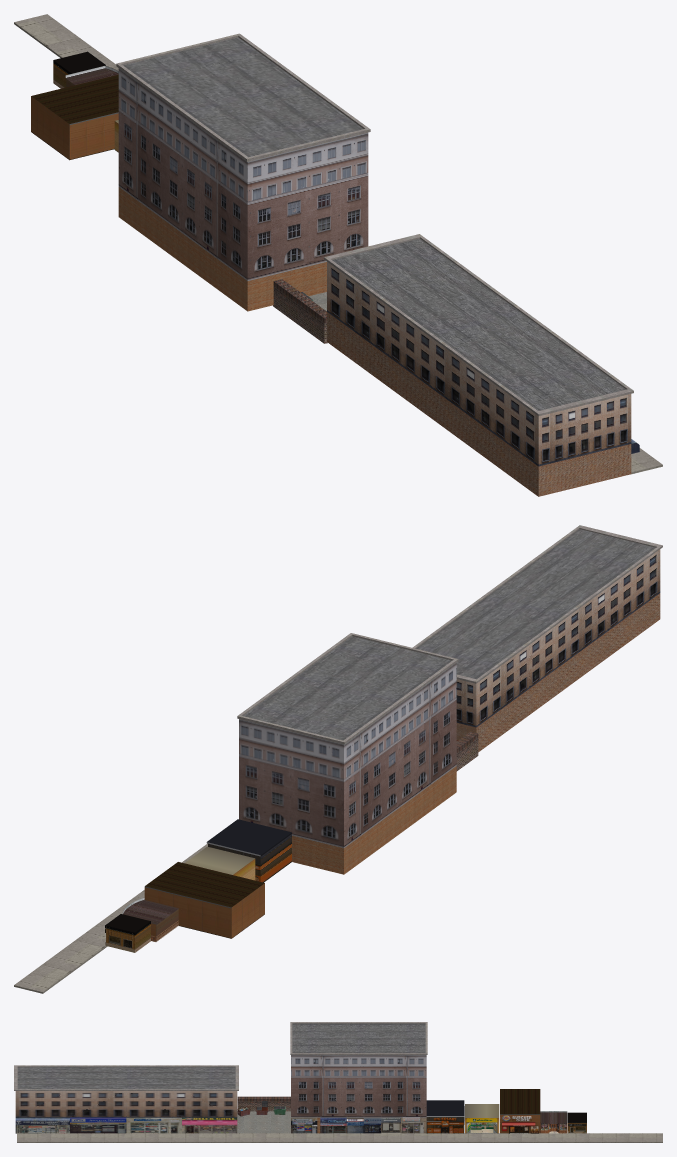
The model's file is Casas1.glb.
3 renders of one model, top to bottom at view 1: azimuth 30°, elevation 25°; view 2: azimuth 150°, elevation 25°; view 3: azimuth 270°, elevation 25°, orthographic. The views are drawn at different scales.
Visible parts, largest first — view 1: Building_02 (1), Building_06 (1), burguer, road_side_full (04), Plane.014, brickwall0 (2), brickwall0 (1); view 2: Building_02 (1), Building_06 (1), burguer, Pizzeria, road_side_full (04), Plane.014, farmacia, Plane.019; view 3: Building_06 (1), Building_02 (1), burguer, Pizzeria, Ground_1, road_side_full (5), road_side_full (3), road_side_full (1), road_side_full (04), road_side_full (2), road_side_full, farmacia (+4 smaller).
Boxes of the visible parts, x1=… form: Building_02 (1): x1=116, y1=33, x2=370, y2=311; Building_06 (1): x1=324, y1=234, x2=639, y2=496; burguer: x1=31, y1=74, x2=118, y2=160; road_side_full (04): x1=14, y1=14, x2=118, y2=70; Plane.014: x1=53, y1=51, x2=105, y2=88; brickwall0 (2): x1=298, y1=297, x2=327, y2=343; brickwall0 (1): x1=273, y1=279, x2=307, y2=324; Building_02 (1): x1=237, y1=633, x2=458, y2=874; Building_06 (1): x1=412, y1=525, x2=662, y2=752; burguer: x1=144, y1=862, x2=264, y2=938; Pizzeria: x1=206, y1=819, x2=291, y2=882; road_side_full (04): x1=14, y1=920, x2=109, y2=993; Plane.014: x1=105, y1=914, x2=150, y2=952; farmacia: x1=185, y1=846, x2=255, y2=880; Plane.019: x1=122, y1=897, x2=178, y2=941; Building_06 (1): x1=14, y1=1065, x2=238, y2=1133; Building_02 (1): x1=290, y1=1022, x2=427, y2=1133; burguer: x1=500, y1=1089, x2=540, y2=1133; Pizzeria: x1=426, y1=1100, x2=464, y2=1133; Ground_1: x1=237, y1=1111, x2=290, y2=1133; road_side_full (5): x1=340, y1=1132, x2=447, y2=1142; road_side_full (3): x1=124, y1=1133, x2=232, y2=1142; road_side_full (1): x1=447, y1=1133, x2=555, y2=1142; road_side_full (04): x1=555, y1=1133, x2=662, y2=1142; road_side_full (2): x1=232, y1=1133, x2=339, y2=1142; road_side_full: x1=17, y1=1133, x2=124, y2=1142; farmacia: x1=465, y1=1104, x2=499, y2=1133.
Size of the model in its own units: 27.99 by 26.77 by 193.
26 materials, 25 textured.
